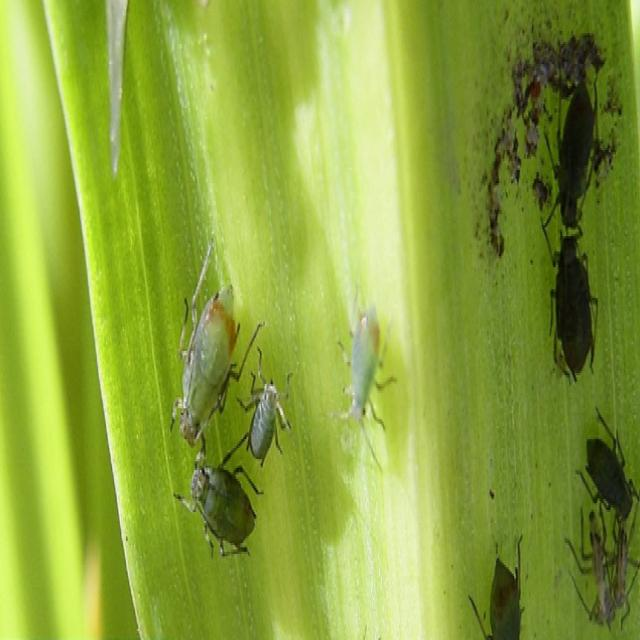Aphid-Grown-: (168, 229, 239, 453), (172, 440, 271, 558), (545, 231, 604, 386), (546, 72, 600, 240), (341, 284, 392, 438), (238, 332, 289, 466), (579, 400, 632, 526)
